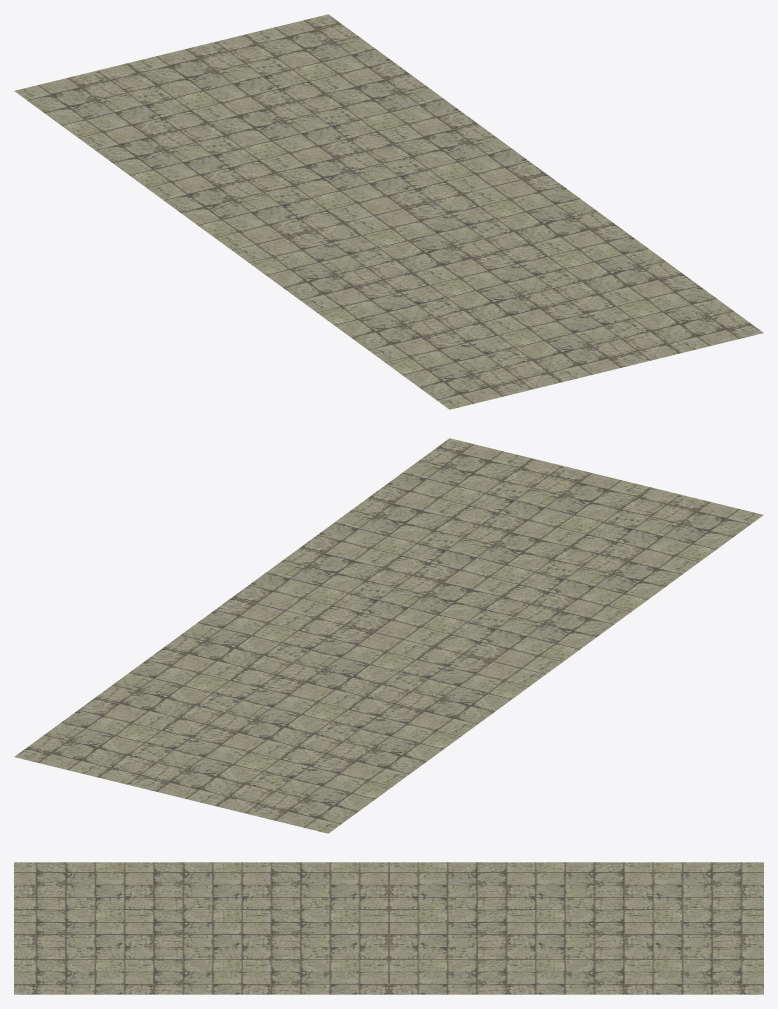
Rendered from SM_Corridor_07_00.fbx.
3 renders of one model, top to bottom at view 1: azimuth 30°, elevation 25°; view 2: azimuth 150°, elevation 25°; view 3: azimuth 270°, elevation 25°, orthographic. The views are drawn at different scales.
Parts seen in each view (by area): view 1: SM_Corridor_07_00; view 2: SM_Corridor_07_00; view 3: SM_Corridor_07_00.
Part boxes in pixels (x1=…): SM_Corridor_07_00: x1=14, y1=14, x2=763, y2=409; SM_Corridor_07_00: x1=14, y1=438, x2=763, y2=833; SM_Corridor_07_00: x1=14, y1=862, x2=763, y2=994.
Size of the model in its own units: 1064 by 0 by 2554.
